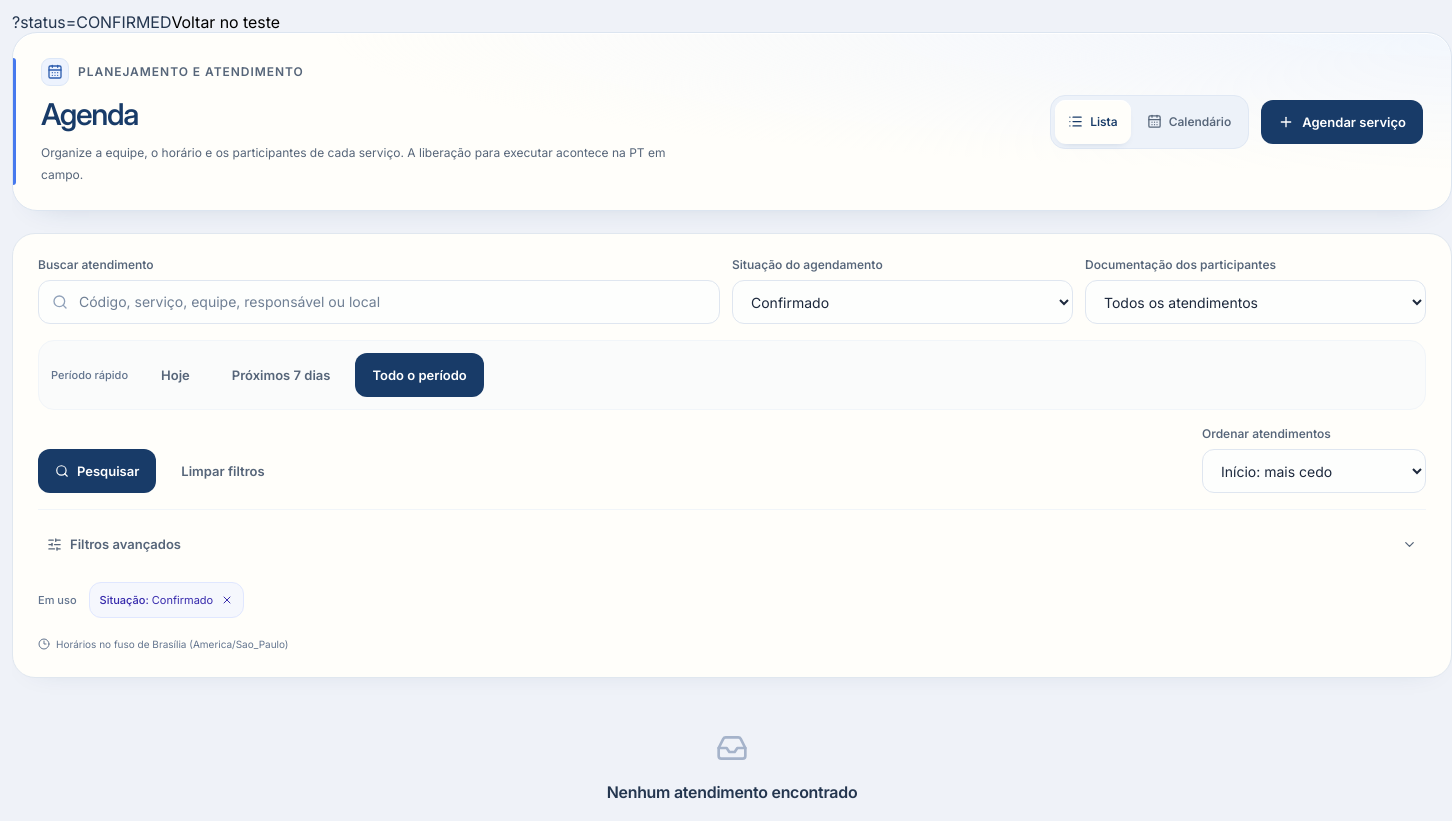
Test: AgendaPage — segurança e continuidade dos filtros na URL › remove o último chip de situação e mantém a lista sem query nem filtros salvos
Click the button with aria-label "Remover filtro: Situação" at (166, 600), box [88, 582, 244, 618]
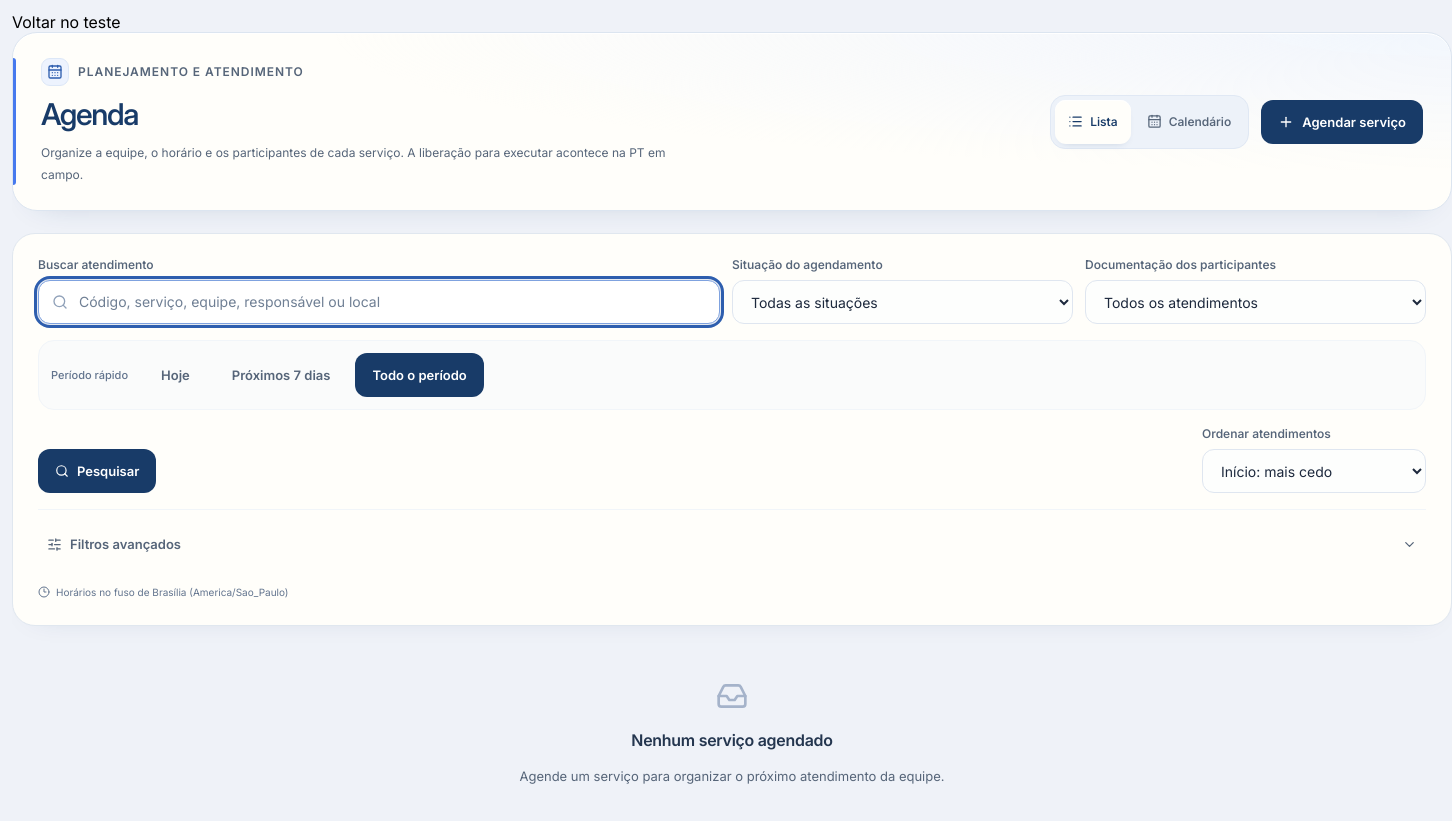
Check: the dropdown labelled "Situação do agendamento" shows "Todas as situações", box [732, 280, 1073, 324]
